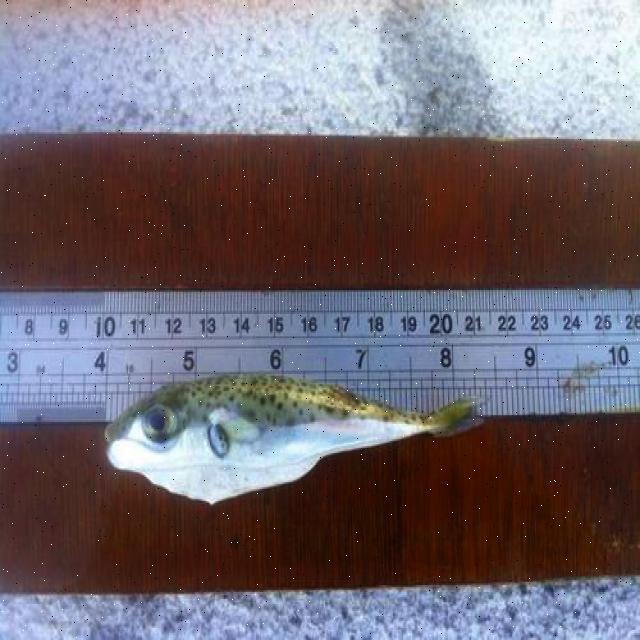Balik: (105, 375, 479, 504)
